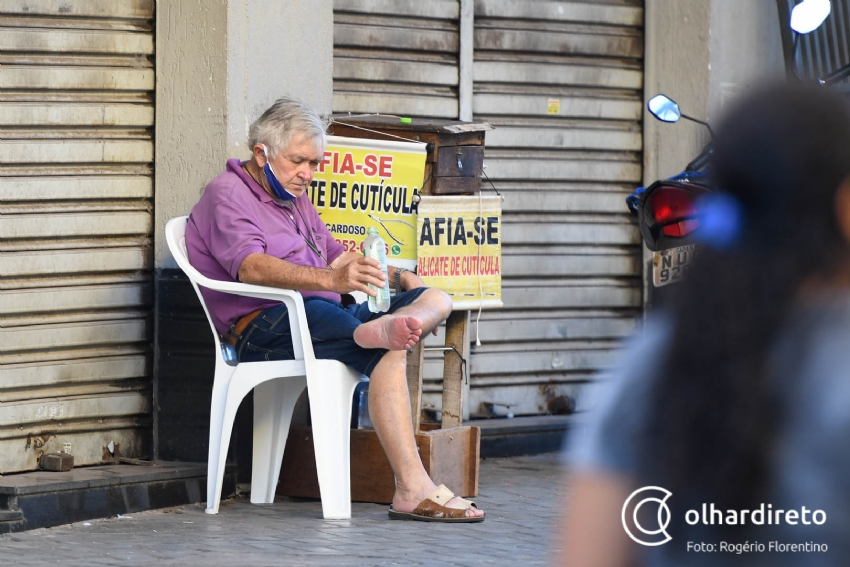mask_weared_incorrect: (253, 121, 326, 204)
